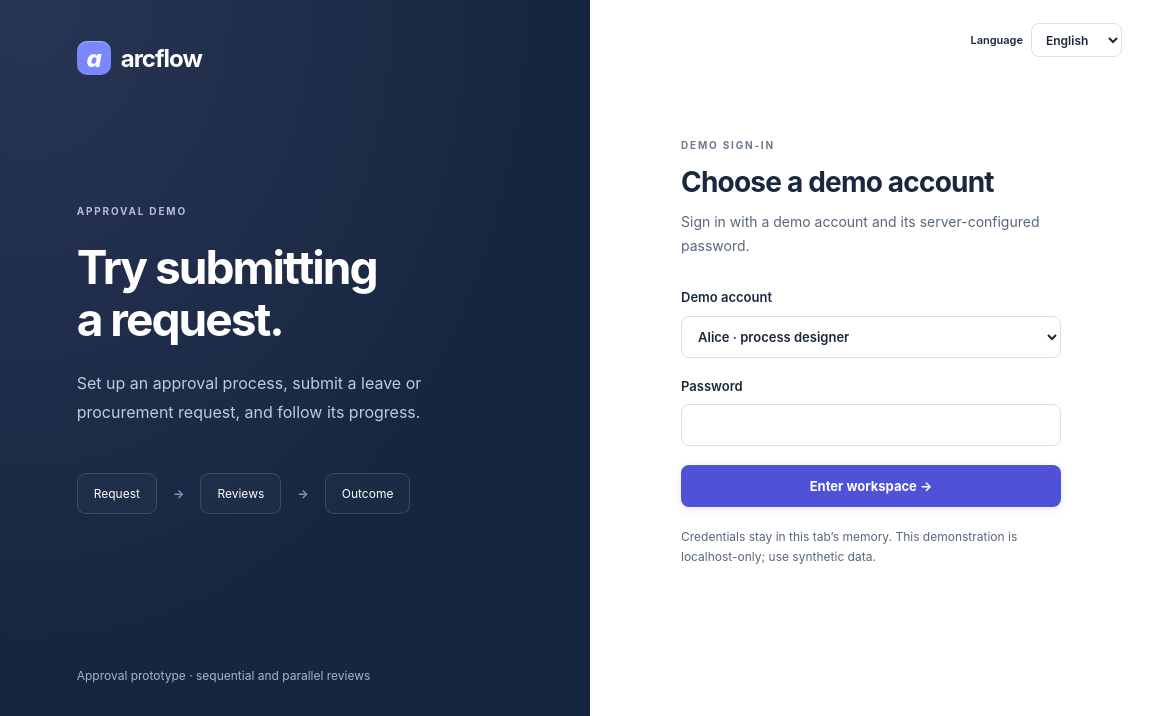
Test case: explicit bilingual procurement authoring › retains the last good typed detail but locks it when refresh returns a malformed row
In the password field labelled "Password": {"x": 871, "y": 425} [681,404,1061,446], type "synthetic-test-only"
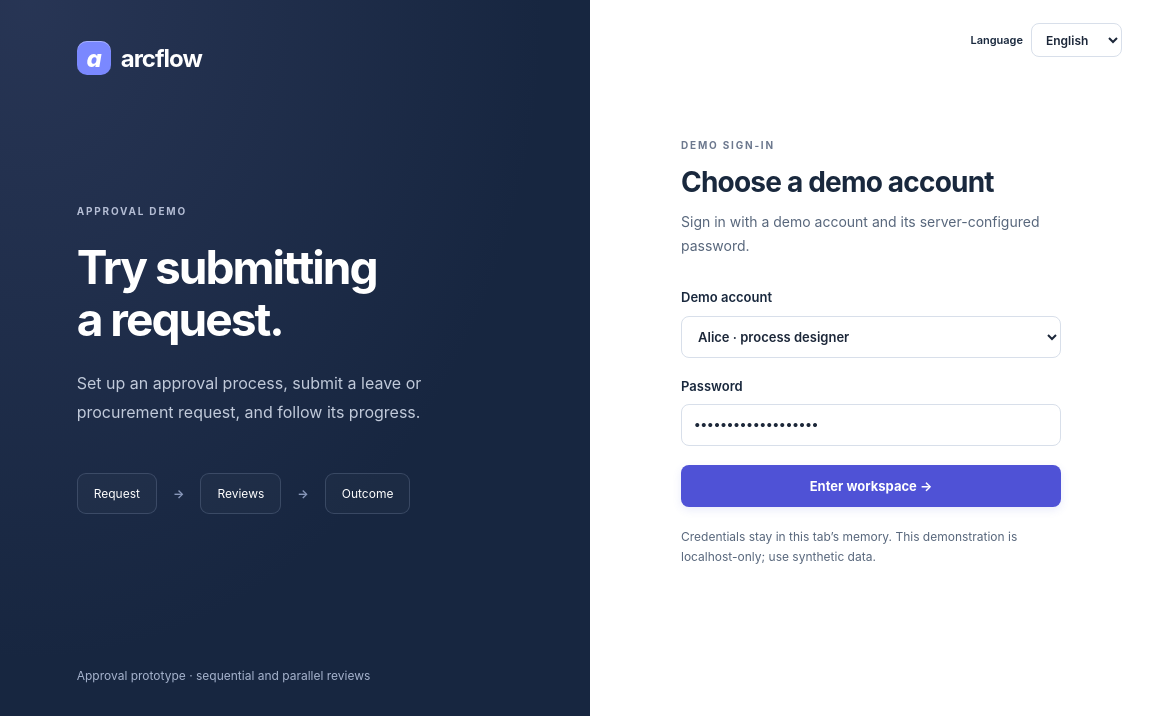
Submit the form with class "login-form", box [681,138,1061,580]
(page scrolled)
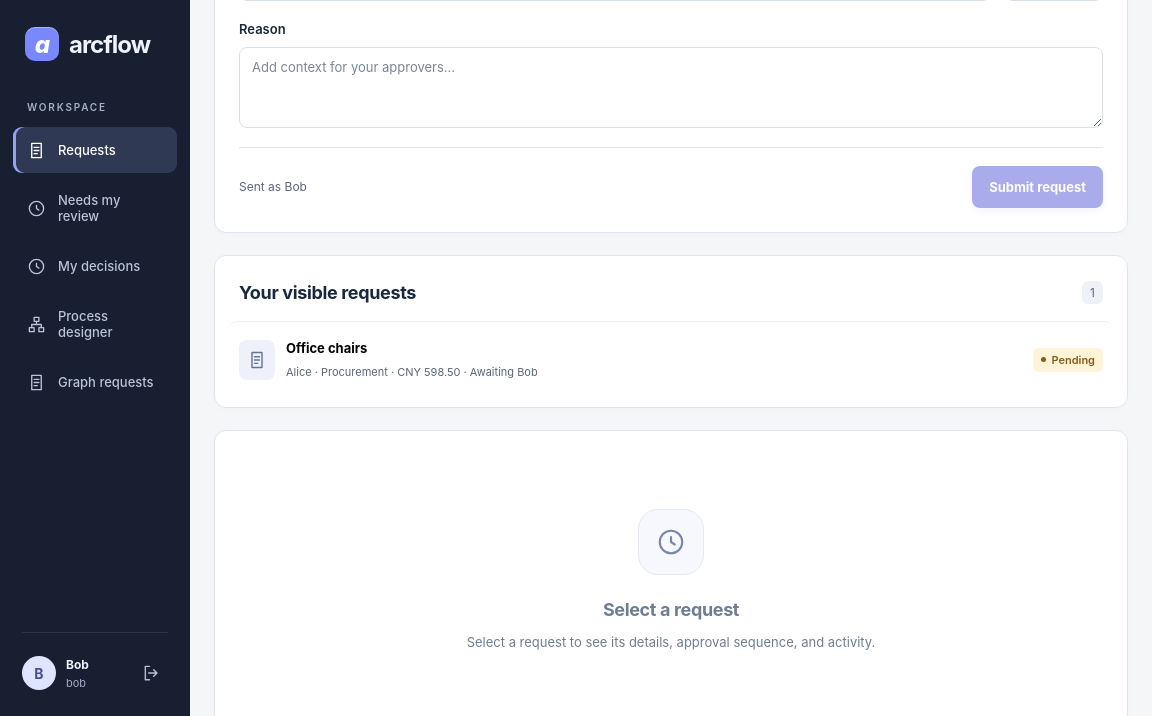
Click the button with class "request-item": {"x": 257, "y": 360} [229,321,1113,397]
(page scrolled)
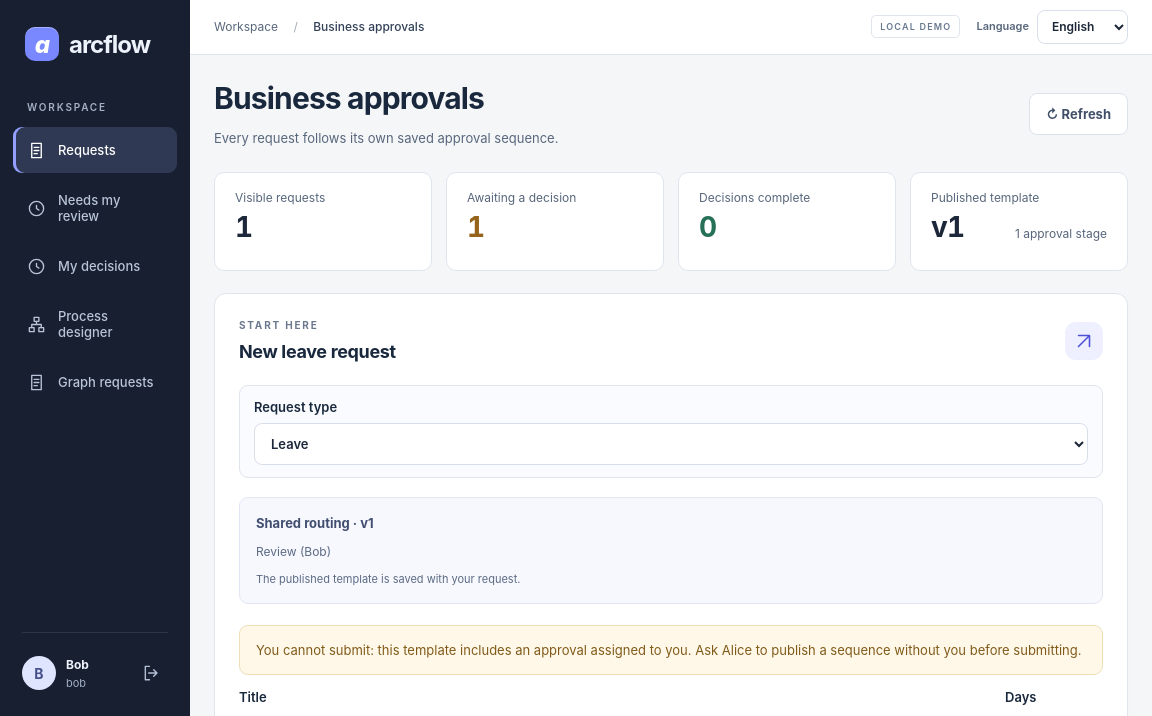
Click the button "↻ Refresh": {"x": 1079, "y": 114} [1029,93,1128,135]
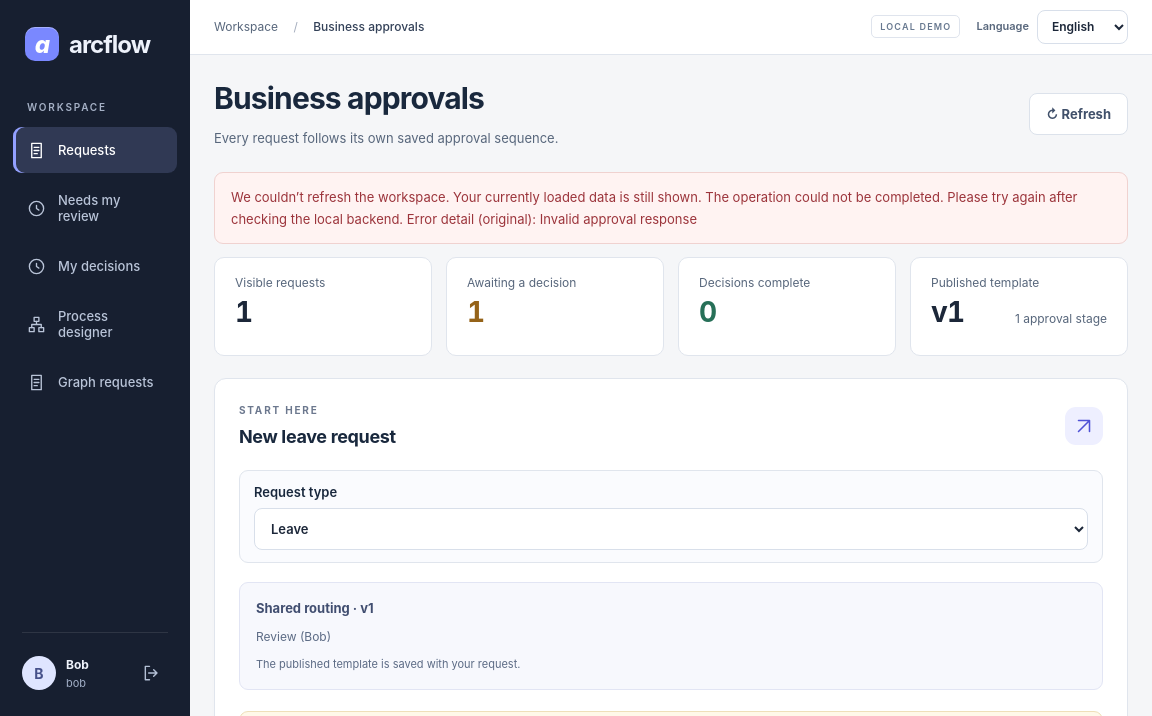
Check: the message is shown, box [214,172,1128,244]
